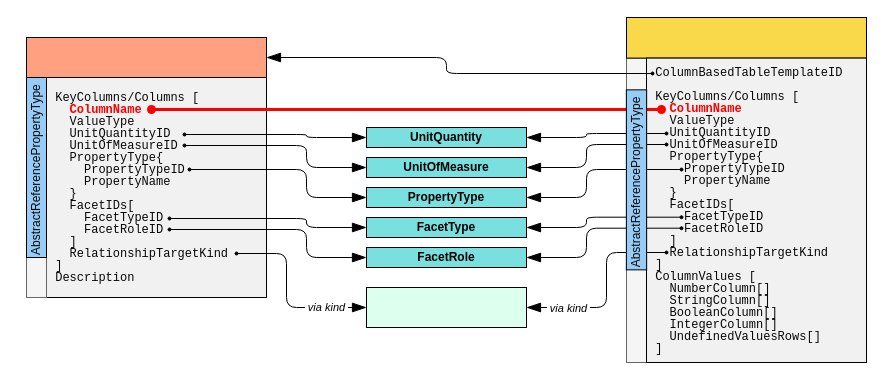
The diagram is 884 pixels wide and 384 high, and some of its shapes have lost their labels. Here are the shapes that lost their labels. From the top down, the centre of each, then its label:
the point at 146,57: <<master-data>> ColumnBasedTableTemplate
the point at 746,37: <<work-product-component>> ColumnBasedTable
the point at 446,307: <<any-group-type>> AnyObjectType
